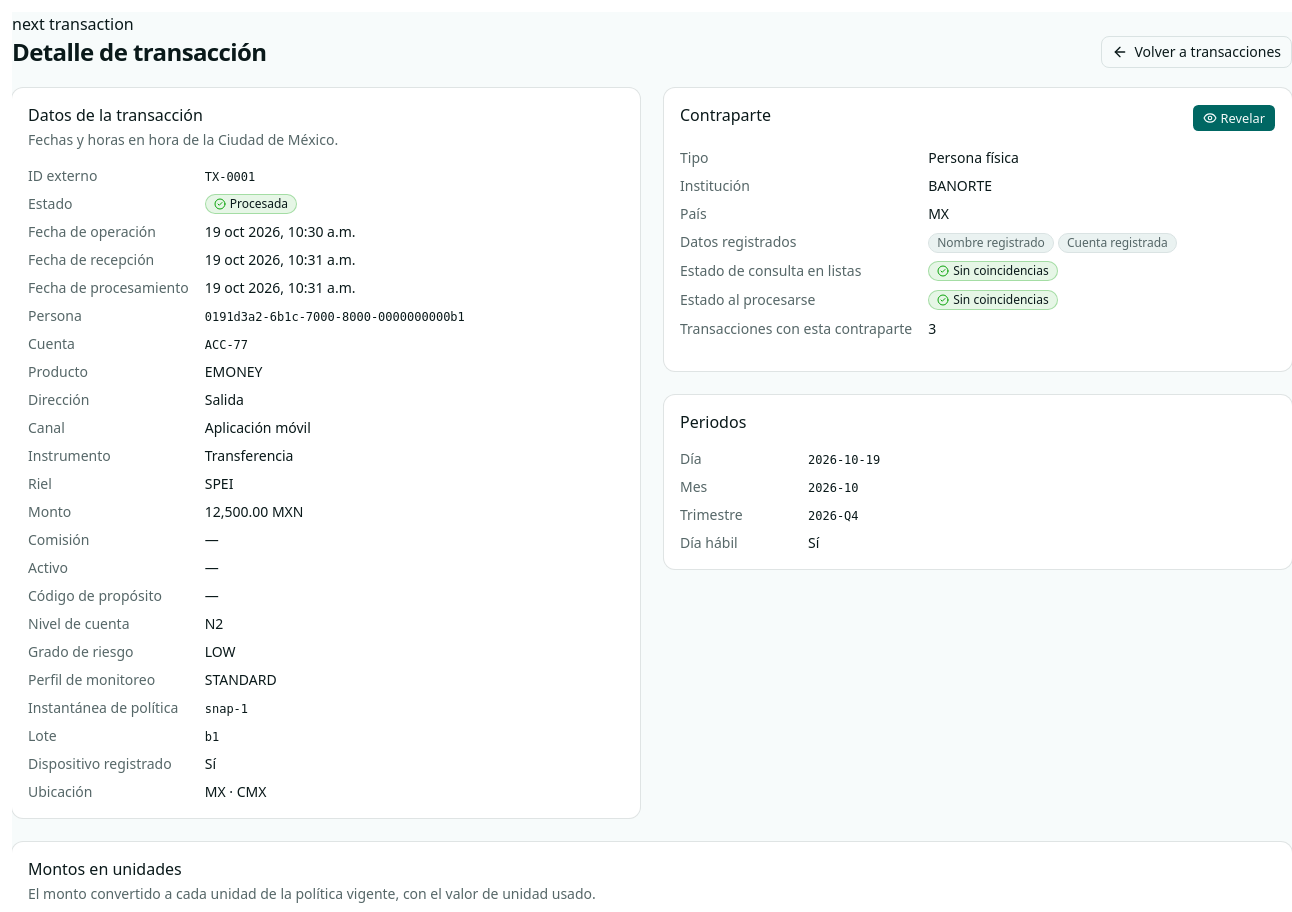
Test: TransactionPage › announces a failed reveal once
expect the text "TX-0001" is shown: met, box [205, 170, 255, 184]
Click the button "Revelar" at (1234, 118), box [1192, 104, 1276, 132]
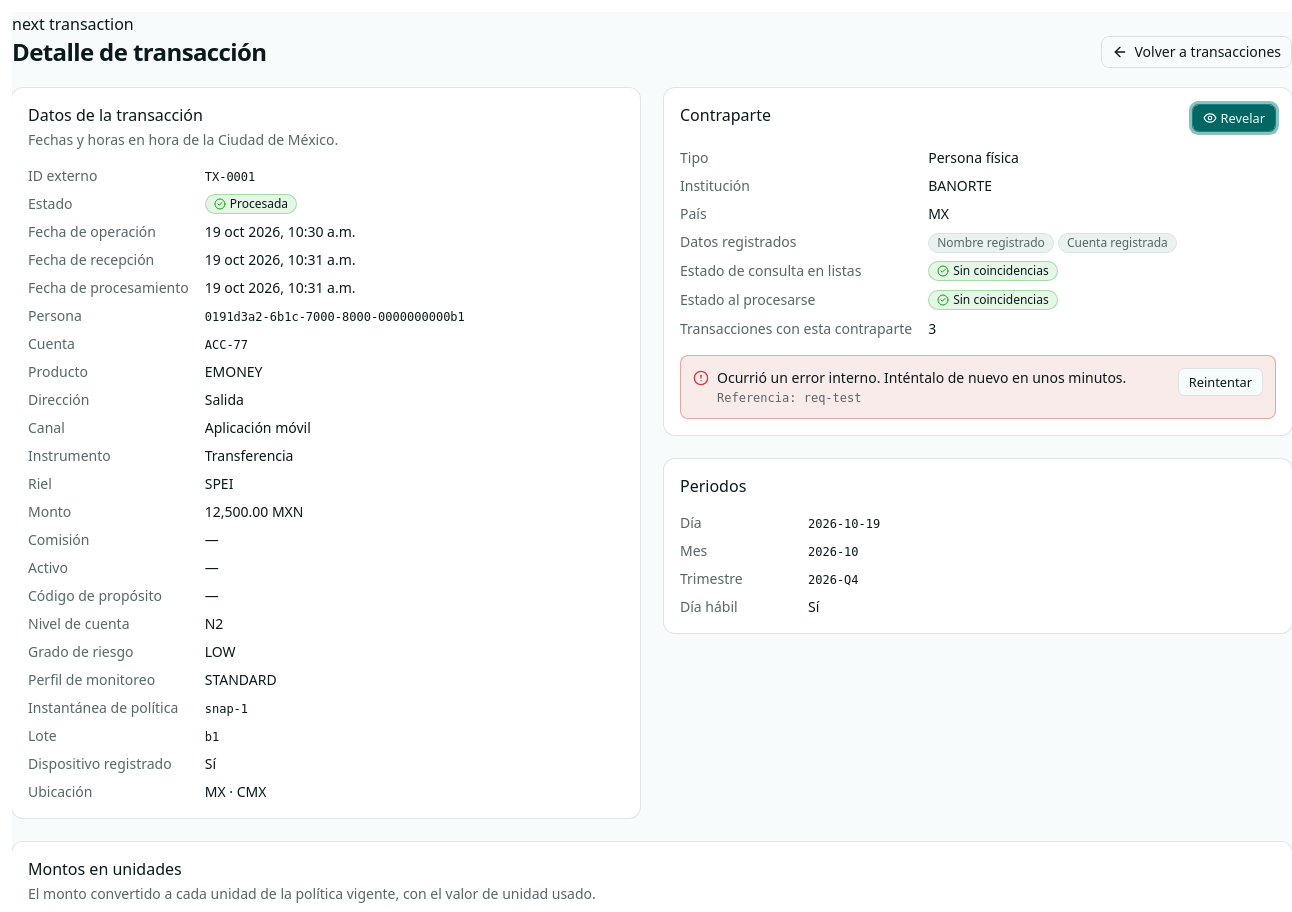
expect the number of messages is 1: met, box [680, 355, 1276, 419]
expect the message shows "Ocurrió un error interno. Inténtalo de nuevo en unos minutos.": met, box [717, 368, 1126, 387]
